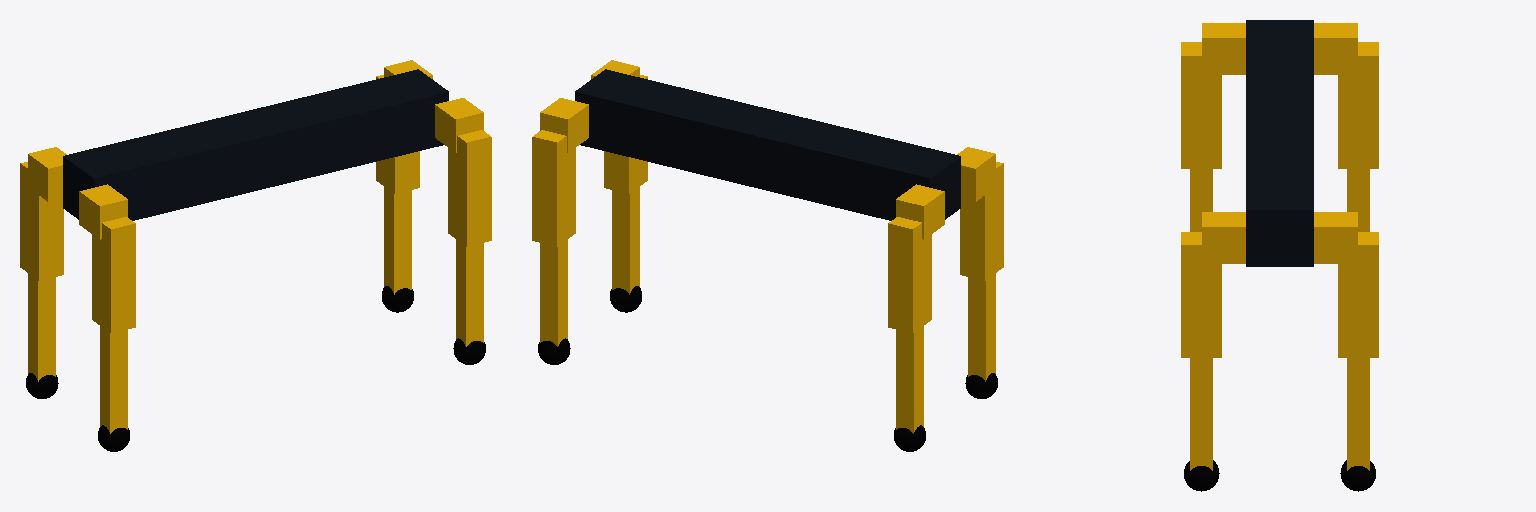
The robot description file, URDF, robot "spot_omg":
<?xml version="1.0" encoding="utf-8"?>
<robot name="spot_omg">
  <!-- Generated from spot_omg_parameters.json. Do not hand-edit this URDF; regenerate it. -->
  <material name="body_dark">
    <color rgba="0.08 0.10 0.13 1" />
  </material>
  <material name="leg_yellow">
    <color rgba="0.95 0.72 0.05 1" />
  </material>
  <material name="foot_black">
    <color rgba="0.03 0.03 0.03 1" />
  </material>
  <link name="base_link">
    <visual>
      <origin xyz="0 0 0" rpy="0 0 0" />
      <geometry>
        <box size="0.5 0.075 0.07" />
      </geometry>
      <material name="body_dark" />
    </visual>
    <collision>
      <origin xyz="0 0 0" rpy="0 0 0" />
      <geometry>
        <box size="0.5 0.075 0.07" />
      </geometry>
    </collision>
    <inertial>
      <origin xyz="0 0 0" rpy="0 0 0" />
      <mass value="1.8" />
      <inertia ixx="0.00157875" ixy="0" ixz="0" iyy="0.038235" iyz="0" izz="0.03834375" />
    </inertial>
  </link>
  <link name="imu_link" />
  <joint name="imu_joint" type="fixed">
    <parent link="base_link" />
    <child link="imu_link" />
    <origin xyz="0 0 0.035" rpy="0 0 0" />
  </joint>
  <!-- FL: J1/J2/J3 servo IDs 1/2/3 -->
  <link name="fl_hip_link">
    <visual>
      <origin xyz="0 0.025 0" rpy="0 0 0" />
      <geometry>
        <box size="0.04 0.05 0.045" />
      </geometry>
      <material name="leg_yellow" />
    </visual>
    <collision>
      <origin xyz="0 0.025 0" rpy="0 0 0" />
      <geometry>
        <box size="0.04 0.05 0.045" />
      </geometry>
    </collision>
    <inertial>
      <origin xyz="0 0.025 0" rpy="0 0 0" />
      <mass value="0.12" />
      <inertia ixx="4.525e-05" ixy="0" ixz="0" iyy="3.625e-05" iyz="0" izz="4.1e-05" />
    </inertial>
  </link>
  <link name="fl_upper_link">
    <visual>
      <origin xyz="0 0 -0.07" rpy="0 0 0" />
      <geometry>
        <box size="0.035 0.045 0.14" />
      </geometry>
      <material name="leg_yellow" />
    </visual>
    <collision>
      <origin xyz="0 0 -0.07" rpy="0 0 0" />
      <geometry>
        <box size="0.035 0.045 0.14" />
      </geometry>
    </collision>
    <inertial>
      <origin xyz="0 0 -0.07" rpy="0 0 0" />
      <mass value="0.15" />
      <inertia ixx="0.0002703125" ixy="0" ixz="0" iyy="0.0002603125" iyz="0" izz="4.0625e-05" />
    </inertial>
  </link>
  <link name="fl_lower_link">
    <visual>
      <origin xyz="0 0 -0.075" rpy="0 0 0" />
      <geometry>
        <box size="0.025 0.025 0.15" />
      </geometry>
      <material name="leg_yellow" />
    </visual>
    <collision>
      <origin xyz="0 0 -0.075" rpy="0 0 0" />
      <geometry>
        <box size="0.025 0.025 0.15" />
      </geometry>
    </collision>
    <inertial>
      <origin xyz="0 0 -0.075" rpy="0 0 0" />
      <mass value="0.1" />
      <inertia ixx="0.000192708333" ixy="0" ixz="0" iyy="0.000192708333" iyz="0" izz="1.04166667e-05" />
    </inertial>
  </link>
  <link name="fl_foot_link">
    <visual>
      <origin xyz="0 0 0" rpy="0 0 0" />
      <geometry>
        <sphere radius="0.02" />
      </geometry>
      <material name="foot_black" />
    </visual>
    <collision>
      <origin xyz="0 0 0" rpy="0 0 0" />
      <geometry>
        <sphere radius="0.02" />
      </geometry>
    </collision>
    <inertial>
      <origin xyz="0 0 0" rpy="0 0 0" />
      <mass value="0.03" />
      <inertia ixx="4.8e-06" ixy="0" ixz="0" iyy="4.8e-06" iyz="0" izz="4.8e-06" />
    </inertial>
  </link>
  <joint name="fl_j1" type="revolute">
    <parent link="base_link" />
    <child link="fl_hip_link" />
    <origin xyz="0.25 0.0375 0" rpy="0 0 0" />
    <axis xyz="1 0 0" />
    <limit lower="-0.523598776" upper="0.523598776" effort="0.981" velocity="4.717" />
    <dynamics damping="0.05" friction="0.02" />
  </joint>
  <joint name="fl_j2" type="revolute">
    <parent link="fl_hip_link" />
    <child link="fl_upper_link" />
    <origin xyz="0 0.05 0" rpy="0 0 0" />
    <axis xyz="0 1 0" />
    <limit lower="-0.785398163" upper="1.74532925" effort="0.981" velocity="4.717" />
    <dynamics damping="0.05" friction="0.02" />
  </joint>
  <joint name="fl_j3" type="revolute">
    <parent link="fl_upper_link" />
    <child link="fl_lower_link" />
    <origin xyz="0 0 -0.14" rpy="0 0 0" />
    <axis xyz="0 -1 0" />
    <limit lower="0" upper="2.61799388" effort="0.981" velocity="4.717" />
    <dynamics damping="0.05" friction="0.02" />
  </joint>
  <joint name="fl_foot_fixed" type="fixed">
    <parent link="fl_lower_link" />
    <child link="fl_foot_link" />
    <origin xyz="0 0 -0.15" rpy="0 0 0" />
  </joint>
  <!-- FR: J1/J2/J3 servo IDs 4/5/6 -->
  <link name="fr_hip_link">
    <visual>
      <origin xyz="0 -0.025 0" rpy="0 0 0" />
      <geometry>
        <box size="0.04 0.05 0.045" />
      </geometry>
      <material name="leg_yellow" />
    </visual>
    <collision>
      <origin xyz="0 -0.025 0" rpy="0 0 0" />
      <geometry>
        <box size="0.04 0.05 0.045" />
      </geometry>
    </collision>
    <inertial>
      <origin xyz="0 -0.025 0" rpy="0 0 0" />
      <mass value="0.12" />
      <inertia ixx="4.525e-05" ixy="0" ixz="0" iyy="3.625e-05" iyz="0" izz="4.1e-05" />
    </inertial>
  </link>
  <link name="fr_upper_link">
    <visual>
      <origin xyz="0 0 -0.07" rpy="0 0 0" />
      <geometry>
        <box size="0.035 0.045 0.14" />
      </geometry>
      <material name="leg_yellow" />
    </visual>
    <collision>
      <origin xyz="0 0 -0.07" rpy="0 0 0" />
      <geometry>
        <box size="0.035 0.045 0.14" />
      </geometry>
    </collision>
    <inertial>
      <origin xyz="0 0 -0.07" rpy="0 0 0" />
      <mass value="0.15" />
      <inertia ixx="0.0002703125" ixy="0" ixz="0" iyy="0.0002603125" iyz="0" izz="4.0625e-05" />
    </inertial>
  </link>
  <link name="fr_lower_link">
    <visual>
      <origin xyz="0 0 -0.075" rpy="0 0 0" />
      <geometry>
        <box size="0.025 0.025 0.15" />
      </geometry>
      <material name="leg_yellow" />
    </visual>
    <collision>
      <origin xyz="0 0 -0.075" rpy="0 0 0" />
      <geometry>
        <box size="0.025 0.025 0.15" />
      </geometry>
    </collision>
    <inertial>
      <origin xyz="0 0 -0.075" rpy="0 0 0" />
      <mass value="0.1" />
      <inertia ixx="0.000192708333" ixy="0" ixz="0" iyy="0.000192708333" iyz="0" izz="1.04166667e-05" />
    </inertial>
  </link>
  <link name="fr_foot_link">
    <visual>
      <origin xyz="0 0 0" rpy="0 0 0" />
      <geometry>
        <sphere radius="0.02" />
      </geometry>
      <material name="foot_black" />
    </visual>
    <collision>
      <origin xyz="0 0 0" rpy="0 0 0" />
      <geometry>
        <sphere radius="0.02" />
      </geometry>
    </collision>
    <inertial>
      <origin xyz="0 0 0" rpy="0 0 0" />
      <mass value="0.03" />
      <inertia ixx="4.8e-06" ixy="0" ixz="0" iyy="4.8e-06" iyz="0" izz="4.8e-06" />
    </inertial>
  </link>
  <joint name="fr_j1" type="revolute">
    <parent link="base_link" />
    <child link="fr_hip_link" />
    <origin xyz="0.25 -0.0375 0" rpy="0 0 0" />
    <axis xyz="-1 0 0" />
    <limit lower="-0.523598776" upper="0.523598776" effort="0.981" velocity="4.717" />
    <dynamics damping="0.05" friction="0.02" />
  </joint>
  <joint name="fr_j2" type="revolute">
    <parent link="fr_hip_link" />
    <child link="fr_upper_link" />
    <origin xyz="0 -0.05 0" rpy="0 0 0" />
    <axis xyz="0 1 0" />
    <limit lower="-0.785398163" upper="1.74532925" effort="0.981" velocity="4.717" />
    <dynamics damping="0.05" friction="0.02" />
  </joint>
  <joint name="fr_j3" type="revolute">
    <parent link="fr_upper_link" />
    <child link="fr_lower_link" />
    <origin xyz="0 0 -0.14" rpy="0 0 0" />
    <axis xyz="0 -1 0" />
    <limit lower="0" upper="2.61799388" effort="0.981" velocity="4.717" />
    <dynamics damping="0.05" friction="0.02" />
  </joint>
  <joint name="fr_foot_fixed" type="fixed">
    <parent link="fr_lower_link" />
    <child link="fr_foot_link" />
    <origin xyz="0 0 -0.15" rpy="0 0 0" />
  </joint>
  <!-- RL: J1/J2/J3 servo IDs 7/8/9 -->
  <link name="rl_hip_link">
    <visual>
      <origin xyz="0 0.025 0" rpy="0 0 0" />
      <geometry>
        <box size="0.04 0.05 0.045" />
      </geometry>
      <material name="leg_yellow" />
    </visual>
    <collision>
      <origin xyz="0 0.025 0" rpy="0 0 0" />
      <geometry>
        <box size="0.04 0.05 0.045" />
      </geometry>
    </collision>
    <inertial>
      <origin xyz="0 0.025 0" rpy="0 0 0" />
      <mass value="0.12" />
      <inertia ixx="4.525e-05" ixy="0" ixz="0" iyy="3.625e-05" iyz="0" izz="4.1e-05" />
    </inertial>
  </link>
  <link name="rl_upper_link">
    <visual>
      <origin xyz="0 0 -0.07" rpy="0 0 0" />
      <geometry>
        <box size="0.035 0.045 0.14" />
      </geometry>
      <material name="leg_yellow" />
    </visual>
    <collision>
      <origin xyz="0 0 -0.07" rpy="0 0 0" />
      <geometry>
        <box size="0.035 0.045 0.14" />
      </geometry>
    </collision>
    <inertial>
      <origin xyz="0 0 -0.07" rpy="0 0 0" />
      <mass value="0.15" />
      <inertia ixx="0.0002703125" ixy="0" ixz="0" iyy="0.0002603125" iyz="0" izz="4.0625e-05" />
    </inertial>
  </link>
  <link name="rl_lower_link">
    <visual>
      <origin xyz="0 0 -0.075" rpy="0 0 0" />
      <geometry>
        <box size="0.025 0.025 0.15" />
      </geometry>
      <material name="leg_yellow" />
    </visual>
    <collision>
      <origin xyz="0 0 -0.075" rpy="0 0 0" />
      <geometry>
        <box size="0.025 0.025 0.15" />
      </geometry>
    </collision>
    <inertial>
      <origin xyz="0 0 -0.075" rpy="0 0 0" />
      <mass value="0.1" />
      <inertia ixx="0.000192708333" ixy="0" ixz="0" iyy="0.000192708333" iyz="0" izz="1.04166667e-05" />
    </inertial>
  </link>
  <link name="rl_foot_link">
    <visual>
      <origin xyz="0 0 0" rpy="0 0 0" />
      <geometry>
        <sphere radius="0.02" />
      </geometry>
      <material name="foot_black" />
    </visual>
    <collision>
      <origin xyz="0 0 0" rpy="0 0 0" />
      <geometry>
        <sphere radius="0.02" />
      </geometry>
    </collision>
    <inertial>
      <origin xyz="0 0 0" rpy="0 0 0" />
      <mass value="0.03" />
      <inertia ixx="4.8e-06" ixy="0" ixz="0" iyy="4.8e-06" iyz="0" izz="4.8e-06" />
    </inertial>
  </link>
  <joint name="rl_j1" type="revolute">
    <parent link="base_link" />
    <child link="rl_hip_link" />
    <origin xyz="-0.25 0.0375 0" rpy="0 0 0" />
    <axis xyz="1 0 0" />
    <limit lower="-0.523598776" upper="0.523598776" effort="0.981" velocity="4.717" />
    <dynamics damping="0.05" friction="0.02" />
  </joint>
  <joint name="rl_j2" type="revolute">
    <parent link="rl_hip_link" />
    <child link="rl_upper_link" />
    <origin xyz="0 0.05 0" rpy="0 0 0" />
    <axis xyz="0 1 0" />
    <limit lower="-0.785398163" upper="1.74532925" effort="0.981" velocity="4.717" />
    <dynamics damping="0.05" friction="0.02" />
  </joint>
  <joint name="rl_j3" type="revolute">
    <parent link="rl_upper_link" />
    <child link="rl_lower_link" />
    <origin xyz="0 0 -0.14" rpy="0 0 0" />
    <axis xyz="0 -1 0" />
    <limit lower="0" upper="2.61799388" effort="0.981" velocity="4.717" />
    <dynamics damping="0.05" friction="0.02" />
  </joint>
  <joint name="rl_foot_fixed" type="fixed">
    <parent link="rl_lower_link" />
    <child link="rl_foot_link" />
    <origin xyz="0 0 -0.15" rpy="0 0 0" />
  </joint>
  <!-- RR: J1/J2/J3 servo IDs 10/11/12 -->
  <link name="rr_hip_link">
    <visual>
      <origin xyz="0 -0.025 0" rpy="0 0 0" />
      <geometry>
        <box size="0.04 0.05 0.045" />
      </geometry>
      <material name="leg_yellow" />
    </visual>
    <collision>
      <origin xyz="0 -0.025 0" rpy="0 0 0" />
      <geometry>
        <box size="0.04 0.05 0.045" />
      </geometry>
    </collision>
    <inertial>
      <origin xyz="0 -0.025 0" rpy="0 0 0" />
      <mass value="0.12" />
      <inertia ixx="4.525e-05" ixy="0" ixz="0" iyy="3.625e-05" iyz="0" izz="4.1e-05" />
    </inertial>
  </link>
  <link name="rr_upper_link">
    <visual>
      <origin xyz="0 0 -0.07" rpy="0 0 0" />
      <geometry>
        <box size="0.035 0.045 0.14" />
      </geometry>
      <material name="leg_yellow" />
    </visual>
    <collision>
      <origin xyz="0 0 -0.07" rpy="0 0 0" />
      <geometry>
        <box size="0.035 0.045 0.14" />
      </geometry>
    </collision>
    <inertial>
      <origin xyz="0 0 -0.07" rpy="0 0 0" />
      <mass value="0.15" />
      <inertia ixx="0.0002703125" ixy="0" ixz="0" iyy="0.0002603125" iyz="0" izz="4.0625e-05" />
    </inertial>
  </link>
  <link name="rr_lower_link">
    <visual>
      <origin xyz="0 0 -0.075" rpy="0 0 0" />
      <geometry>
        <box size="0.025 0.025 0.15" />
      </geometry>
      <material name="leg_yellow" />
    </visual>
    <collision>
      <origin xyz="0 0 -0.075" rpy="0 0 0" />
      <geometry>
        <box size="0.025 0.025 0.15" />
      </geometry>
    </collision>
    <inertial>
      <origin xyz="0 0 -0.075" rpy="0 0 0" />
      <mass value="0.1" />
      <inertia ixx="0.000192708333" ixy="0" ixz="0" iyy="0.000192708333" iyz="0" izz="1.04166667e-05" />
    </inertial>
  </link>
  <link name="rr_foot_link">
    <visual>
      <origin xyz="0 0 0" rpy="0 0 0" />
      <geometry>
        <sphere radius="0.02" />
      </geometry>
      <material name="foot_black" />
    </visual>
    <collision>
      <origin xyz="0 0 0" rpy="0 0 0" />
      <geometry>
        <sphere radius="0.02" />
      </geometry>
    </collision>
    <inertial>
      <origin xyz="0 0 0" rpy="0 0 0" />
      <mass value="0.03" />
      <inertia ixx="4.8e-06" ixy="0" ixz="0" iyy="4.8e-06" iyz="0" izz="4.8e-06" />
    </inertial>
  </link>
  <joint name="rr_j1" type="revolute">
    <parent link="base_link" />
    <child link="rr_hip_link" />
    <origin xyz="-0.25 -0.0375 0" rpy="0 0 0" />
    <axis xyz="-1 0 0" />
    <limit lower="-0.523598776" upper="0.523598776" effort="0.981" velocity="4.717" />
    <dynamics damping="0.05" friction="0.02" />
  </joint>
  <joint name="rr_j2" type="revolute">
    <parent link="rr_hip_link" />
    <child link="rr_upper_link" />
    <origin xyz="0 -0.05 0" rpy="0 0 0" />
    <axis xyz="0 1 0" />
    <limit lower="-0.785398163" upper="1.74532925" effort="0.981" velocity="4.717" />
    <dynamics damping="0.05" friction="0.02" />
  </joint>
  <joint name="rr_j3" type="revolute">
    <parent link="rr_upper_link" />
    <child link="rr_lower_link" />
    <origin xyz="0 0 -0.14" rpy="0 0 0" />
    <axis xyz="0 -1 0" />
    <limit lower="0" upper="2.61799388" effort="0.981" velocity="4.717" />
    <dynamics damping="0.05" friction="0.02" />
  </joint>
  <joint name="rr_foot_fixed" type="fixed">
    <parent link="rr_lower_link" />
    <child link="rr_foot_link" />
    <origin xyz="0 0 -0.15" rpy="0 0 0" />
  </joint>
</robot>

--- Render facts (derived) ---
Views: 3 orthographic renders of the robot side by side, from view 1: azimuth 30°, elevation 25°; view 2: azimuth 150°, elevation 25°; view 3: azimuth 270°, elevation 25°.
Model spot_omg with 18 links and 17 joints (12 revolute, 5 fixed), rooted at base_link, posed every joint at zero.
Links seen in each view (by area): view 1: base_link, fr_upper_link, rr_upper_link, rl_upper_link, fr_lower_link, rl_lower_link, rr_lower_link, fl_lower_link, rr_hip_link, fr_hip_link, rl_hip_link, fl_upper_link (+4 smaller); view 2: base_link, fl_upper_link, rl_upper_link, rr_upper_link, fl_lower_link, rl_lower_link, rr_lower_link, fr_lower_link, rl_hip_link, fl_hip_link, rr_hip_link, fr_upper_link (+4 smaller); view 3: base_link, rl_upper_link, rr_upper_link, fl_upper_link, fr_upper_link, fl_lower_link, fr_lower_link, fl_hip_link, fr_hip_link, rl_hip_link, rr_hip_link, rl_lower_link (+3 smaller).
Boxes of the visible links, x1,y1,x2,y2 form: base_link: [63, 69, 448, 220]; fr_upper_link: [448, 130, 491, 246]; rr_upper_link: [92, 217, 135, 333]; rl_upper_link: [20, 162, 63, 280]; fr_lower_link: [456, 239, 483, 346]; rl_lower_link: [28, 273, 55, 381]; rr_lower_link: [100, 326, 127, 433]; fl_lower_link: [384, 187, 411, 294]; rr_hip_link: [79, 184, 127, 239]; fr_hip_link: [435, 98, 483, 152]; rl_hip_link: [28, 147, 66, 201]; fl_upper_link: [376, 75, 419, 193]; base_link: [575, 69, 960, 220]; fl_upper_link: [532, 130, 575, 246]; rl_upper_link: [888, 217, 931, 333]; rr_upper_link: [960, 162, 1003, 280]; fl_lower_link: [540, 239, 567, 346]; rl_lower_link: [896, 326, 923, 433]; rr_lower_link: [968, 273, 995, 381]; fr_lower_link: [612, 187, 639, 294]; rl_hip_link: [896, 184, 944, 239]; fl_hip_link: [540, 98, 588, 152]; rr_hip_link: [957, 147, 995, 201]; fr_upper_link: [604, 75, 647, 193]; base_link: [1246, 20, 1313, 266]; rl_upper_link: [1338, 42, 1378, 168]; rr_upper_link: [1181, 42, 1221, 168]; fl_upper_link: [1338, 232, 1378, 357]; fr_upper_link: [1181, 232, 1221, 357]; fl_lower_link: [1347, 358, 1369, 470]; fr_lower_link: [1190, 358, 1212, 470]; fl_hip_link: [1314, 212, 1357, 263]; fr_hip_link: [1202, 212, 1245, 263]; rl_hip_link: [1314, 23, 1357, 74]; rr_hip_link: [1202, 23, 1245, 74]; rl_lower_link: [1347, 169, 1369, 231].
Bounding box of the posed robot: 0.54 × 0.22 × 0.345 m (x, y, z).
Geometry: primitives only (box / cylinder / sphere), no mesh files.
